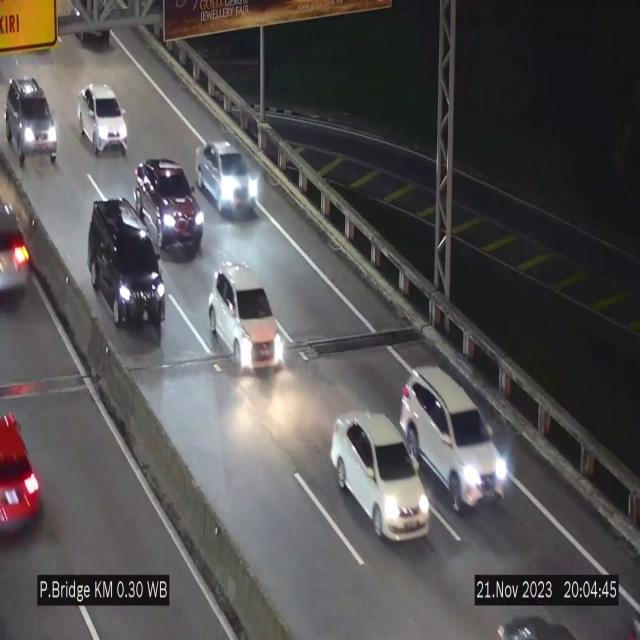Car: (400, 366, 516, 510), (330, 412, 430, 540), (90, 202, 168, 340), (0, 394, 52, 556), (208, 264, 283, 369), (133, 159, 203, 253), (0, 198, 45, 316), (196, 140, 262, 218), (6, 77, 57, 166), (78, 85, 128, 156)
